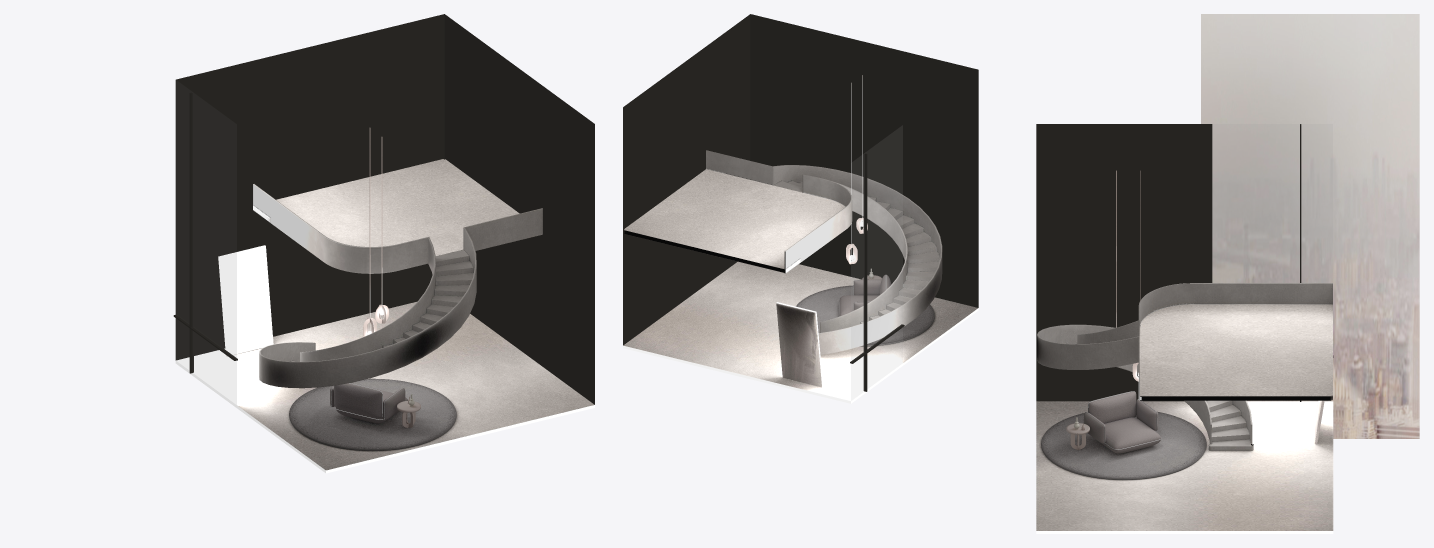
The model's file is apartment-web.glb.
3 views of the same model, side by side, from view 1: azimuth 30°, elevation 25°; view 2: azimuth 150°, elevation 25°; view 3: azimuth 270°, elevation 25° (orthographic). The views are drawn at different scales.
Visible parts, largest first — view 1: House, floor, Stairs, 2nd_floor, carpet, painting, sofa, lighting; view 2: House, floor, Stairs, 2nd_floor, painting, carpet, sofa, lighting; view 3: outside, House, floor, 2nd_floor, Stairs, carpet, sofa.
Boxes of the visible parts, box(x1,y1,x2,y2) form: House: box(173, 14, 594, 404); floor: box(175, 302, 594, 473); Stairs: box(253, 184, 542, 388); 2nd_floor: box(253, 159, 519, 255); carpet: box(289, 378, 456, 450); painting: box(218, 245, 273, 356); sofa: box(330, 382, 407, 423); lighting: box(363, 128, 388, 336); House: box(623, 14, 978, 391); floor: box(623, 261, 978, 403); Stairs: box(706, 150, 942, 355); 2nd_floor: box(624, 169, 845, 272); painting: box(776, 302, 822, 387); carpet: box(796, 285, 934, 346); sofa: box(839, 275, 891, 315); lighting: box(846, 75, 867, 264); outside: box(1201, 14, 1419, 438); House: box(1036, 124, 1333, 401); floor: box(1036, 401, 1333, 533); 2nd_floor: box(1139, 304, 1332, 400); Stairs: box(1037, 283, 1332, 450); carpet: box(1041, 411, 1206, 479); sofa: box(1083, 391, 1161, 453).
Size of the model in its own units: 11.79 by 12.54 by 10.24.
16 materials, 12 textured.
